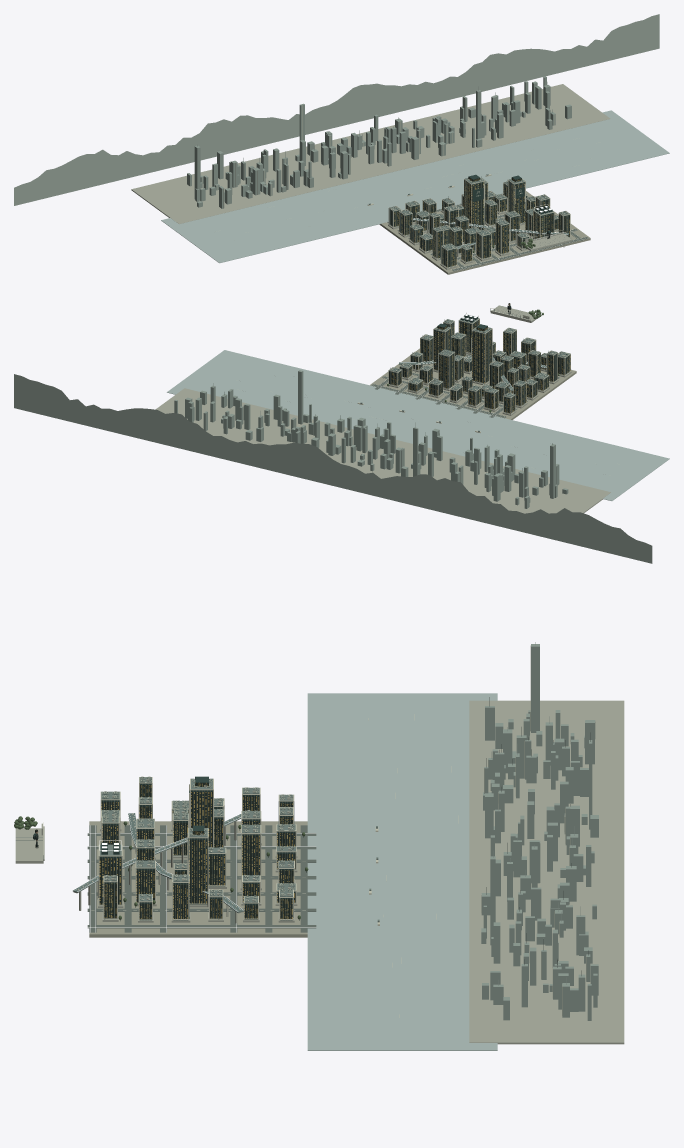
Rendered from compute-city.glb.
3 renders of one model, top to bottom at view 1: azimuth 30°, elevation 25°; view 2: azimuth 150°, elevation 25°; view 3: azimuth 270°, elevation 25°, orthographic. The views are drawn at different scales.
Visible parts, largest first — view 1: City | water, City | mountain, City | concrete, City | distant, City | rack, City | metal, City | edge, City | paving, City | dark, City | asphalt, City | fan; view 2: City | water, City | mountain, City | distant, City | concrete, City | rack, City | metal, City | edge, City | paving, City | asphalt, City | dark, City | fan; view 3: City | water, City | concrete, City | distant, City | rack, City | paving, City | edge, City | metal, City | asphalt, City | dark, City | fan, City | road, City | light.
Boxes of the visible parts, x1,y1,x2,y2 form: City | water: (161,110,669,263); City | mountain: (14,14,659,205); City | concrete: (131,84,610,269); City | distant: (187,76,571,208); City | rack: (389,177,569,267); City | metal: (368,174,571,267); City | edge: (202,105,570,268); City | paving: (379,191,590,274); City | dark: (389,174,569,261); City | asphalt: (387,193,588,271); City | fan: (390,178,568,248); City | water: (167,350,669,500); City | mountain: (14,374,652,563); City | distant: (174,370,568,508); City | concrete: (155,305,610,513); City | rack: (389,320,570,413); City | metal: (360,306,570,431); City | edge: (357,308,570,432); City | paving: (370,348,576,419); City | asphalt: (371,354,559,418); City | dark: (388,305,570,413); City | fan: (391,319,568,396); City | water: (307,693,497,1050); City | concrete: (15,700,624,1044); City | distant: (481,642,598,1020); City | rack: (99,777,295,918); City | paving: (89,821,307,937); City | edge: (43,645,586,1017); City | metal: (16,777,379,922); City | asphalt: (87,825,316,932); City | dark: (33,776,306,920); City | fan: (102,777,294,901); City | road: (73,810,250,912); City | light: (76,810,315,932).
Bounding box in the file's own units: 344 × 31.07 × 186.
Materials: 19 (1 with a texture image).
